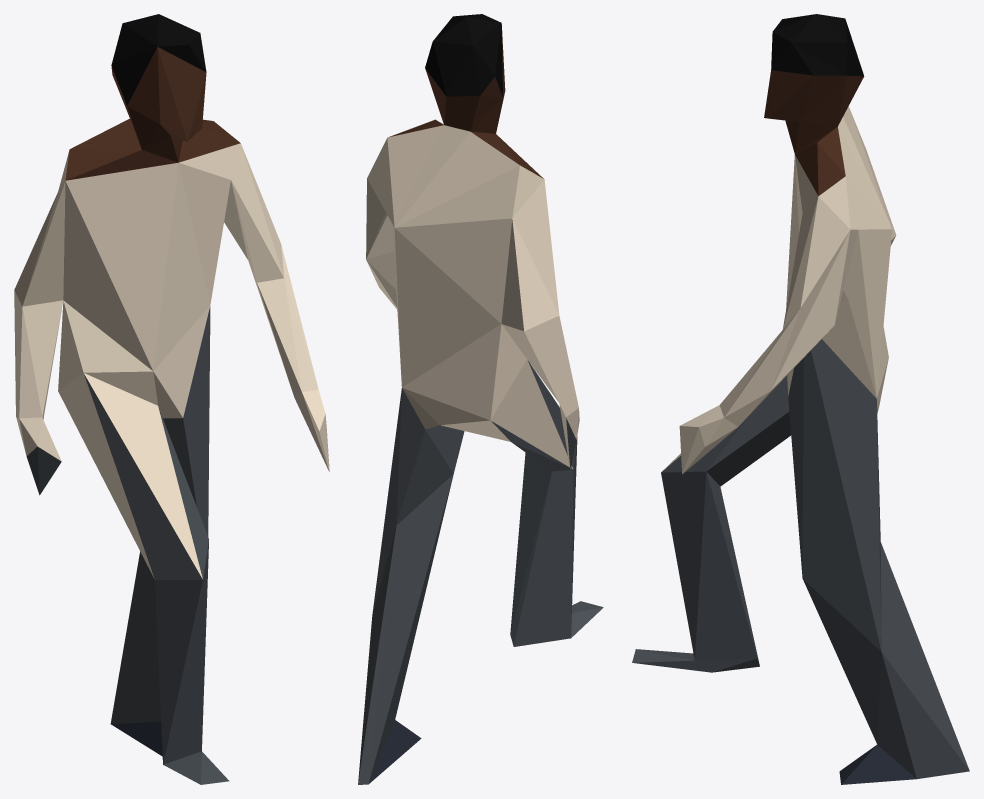
Rendered from walker-19.glb.
3 views of the same model, side by side, from view 1: azimuth 30°, elevation 25°; view 2: azimuth 150°, elevation 25°; view 3: azimuth 270°, elevation 25° (orthographic). The views are drawn at different scales.
Visible parts, largest first — view 1: Man08; view 2: Man08; view 3: Man08.
Part boxes in pixels (x1,y1,x2,y2): Man08: [14, 14, 329, 784]; Man08: [358, 14, 603, 784]; Man08: [632, 14, 969, 784].
Bounding box in the file's own units: 0.5939 × 1.77 × 0.7327.
